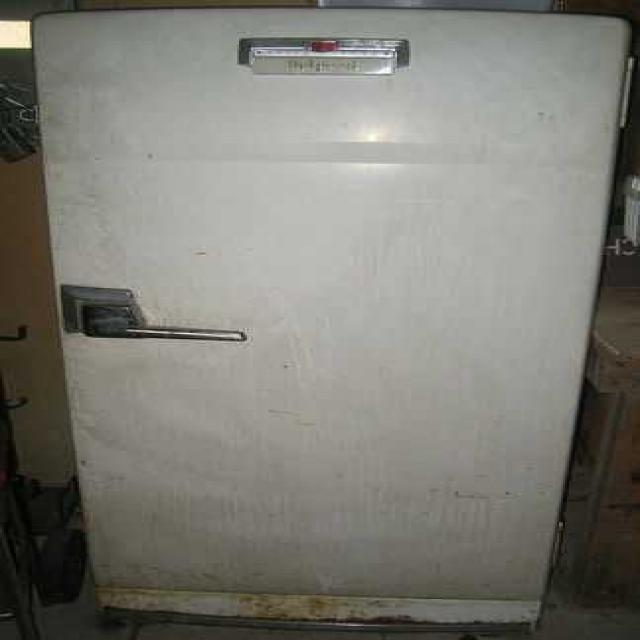refrigerator: (28, 12, 602, 634)
